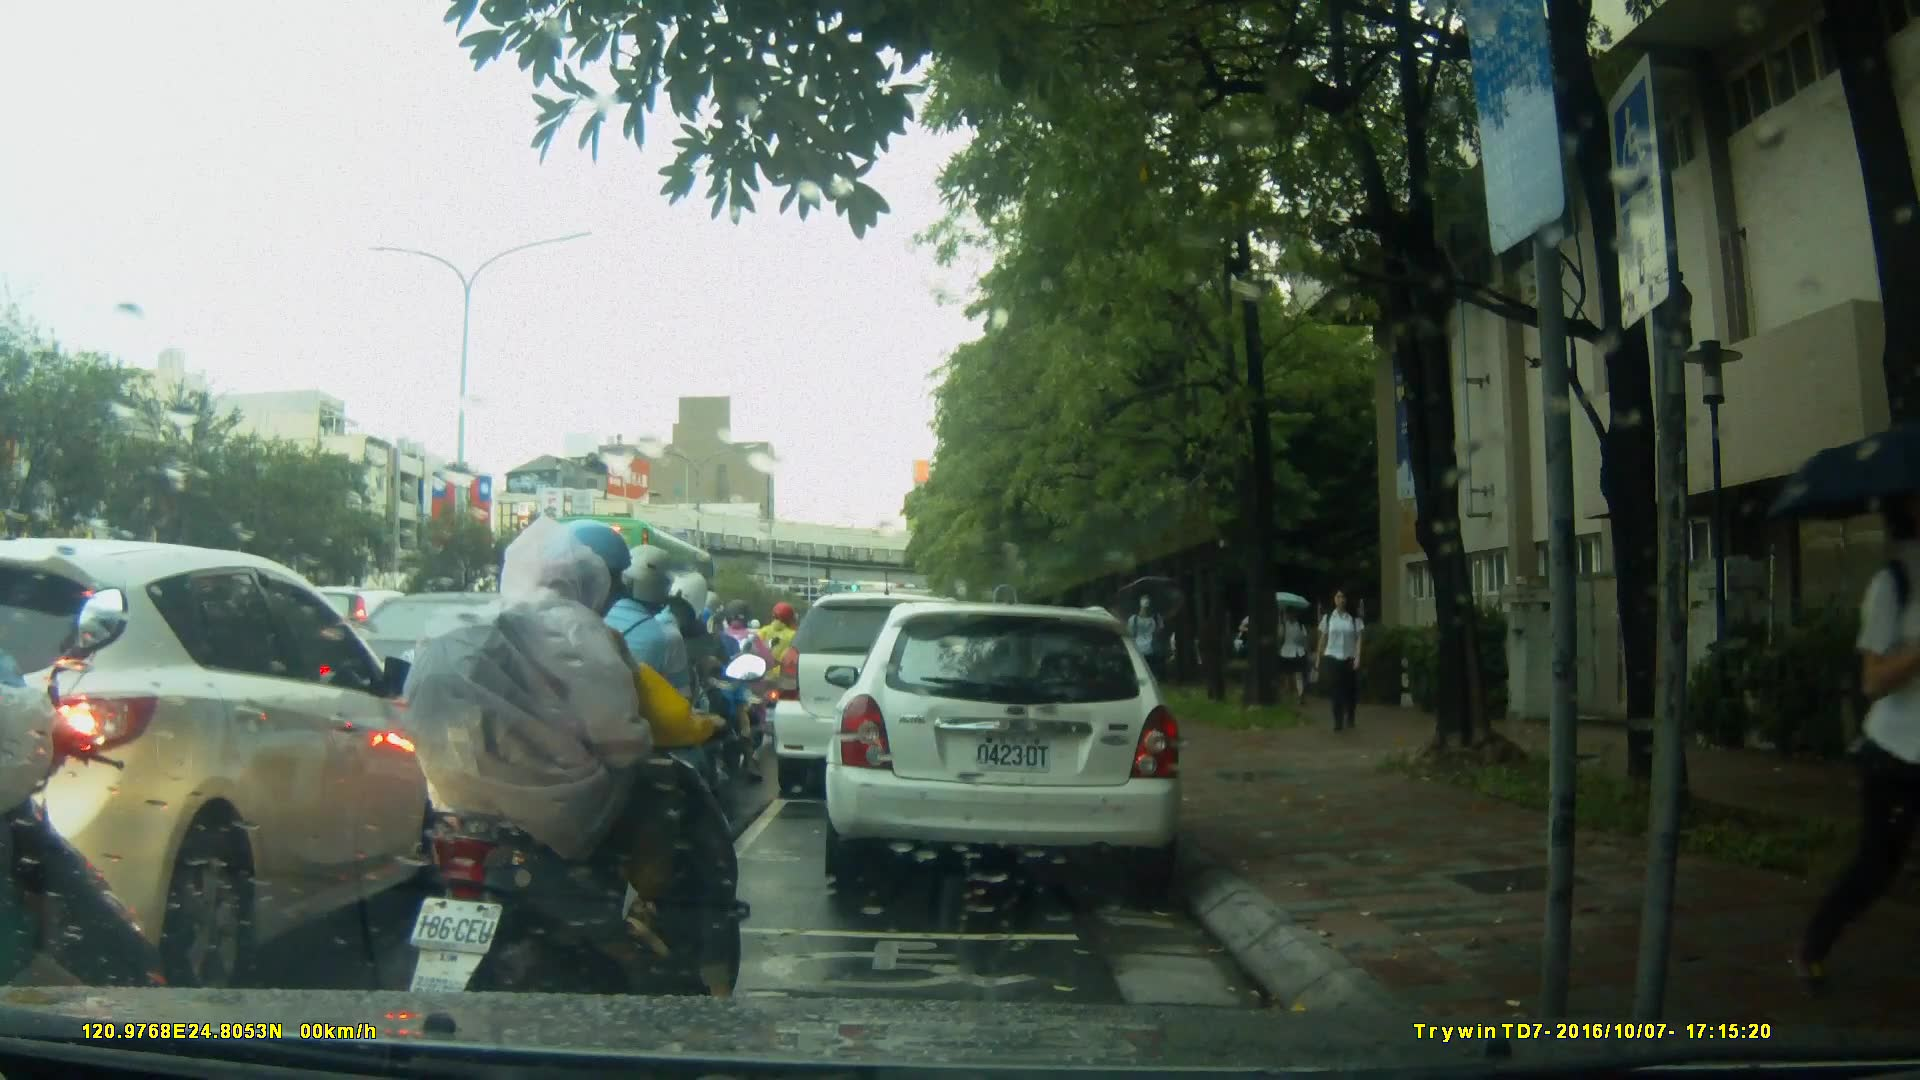pedestrian: (1832, 479, 1920, 1008), (1312, 586, 1369, 733), (1126, 588, 1173, 717)
rider: (393, 514, 753, 1073), (1, 586, 179, 1080), (541, 546, 732, 887), (608, 571, 744, 864), (708, 601, 779, 764), (756, 603, 816, 744)
vehicle: (1, 537, 442, 988), (822, 604, 1186, 881), (774, 595, 995, 802), (552, 519, 739, 666)
